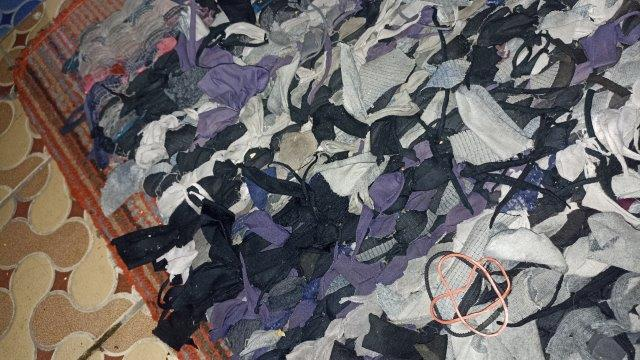karet: (424, 251, 511, 337)
